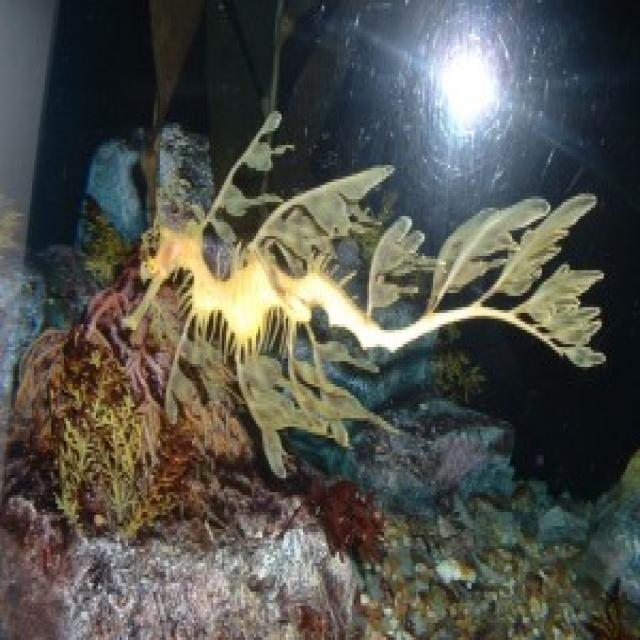Seahorse: (128, 187, 608, 422)
